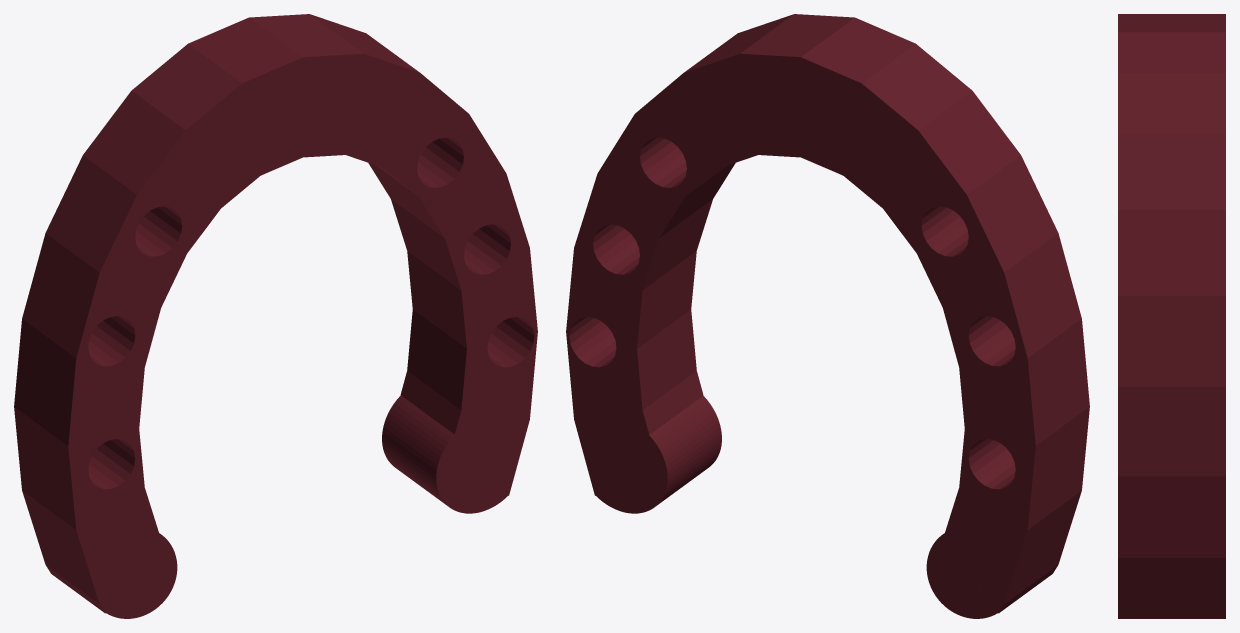
The model's file is herradura2.0.glb.
3 renders of one model, left to right at view 1: azimuth 30°, elevation 25°; view 2: azimuth 150°, elevation 25°; view 3: azimuth 270°, elevation 25°, orthographic.
Visible parts, largest first — view 1: obj_0; view 2: obj_0; view 3: obj_0.
Part boxes in pixels (left/top/right/bottom): obj_0: left=14, top=14, right=537, bottom=618; obj_0: left=566, top=14, right=1089, bottom=618; obj_0: left=1118, top=14, right=1225, bottom=618.
Size of the model in its own units: 20 by 21.16 by 4.
